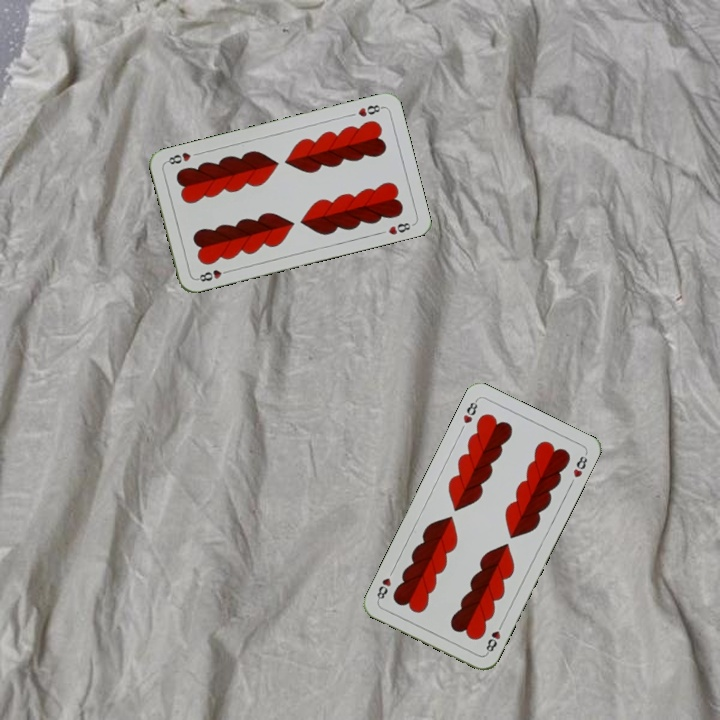H8: (482, 618, 506, 656), (193, 266, 233, 284), (459, 396, 481, 426), (354, 101, 386, 120)
